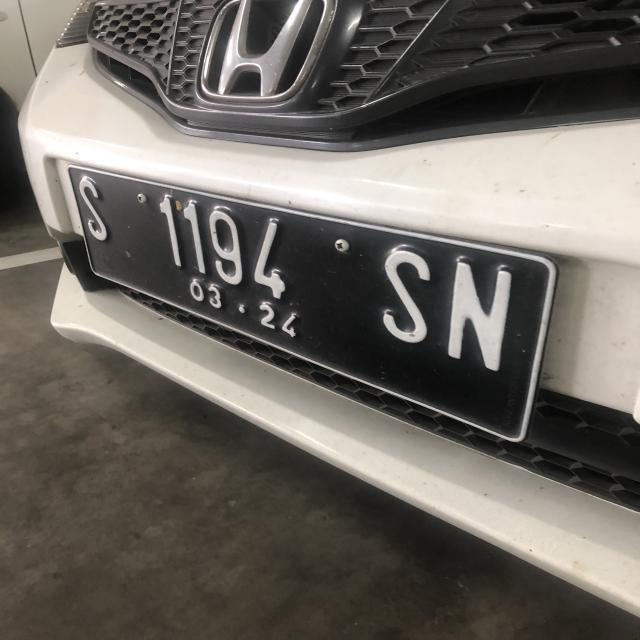1: (180, 198, 213, 276), (153, 196, 181, 274)
4: (251, 212, 295, 304)
9: (208, 206, 248, 286)
N: (444, 252, 516, 383)
S: (373, 240, 438, 348), (75, 175, 108, 242)
